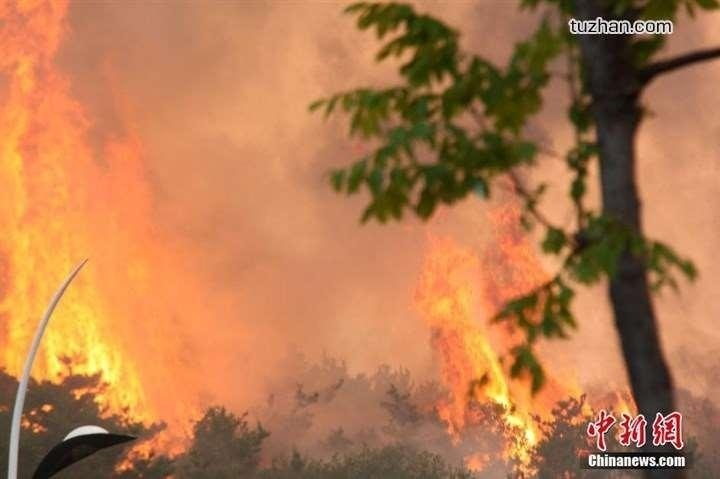fire: (0, 9, 170, 440), (414, 205, 561, 462)
